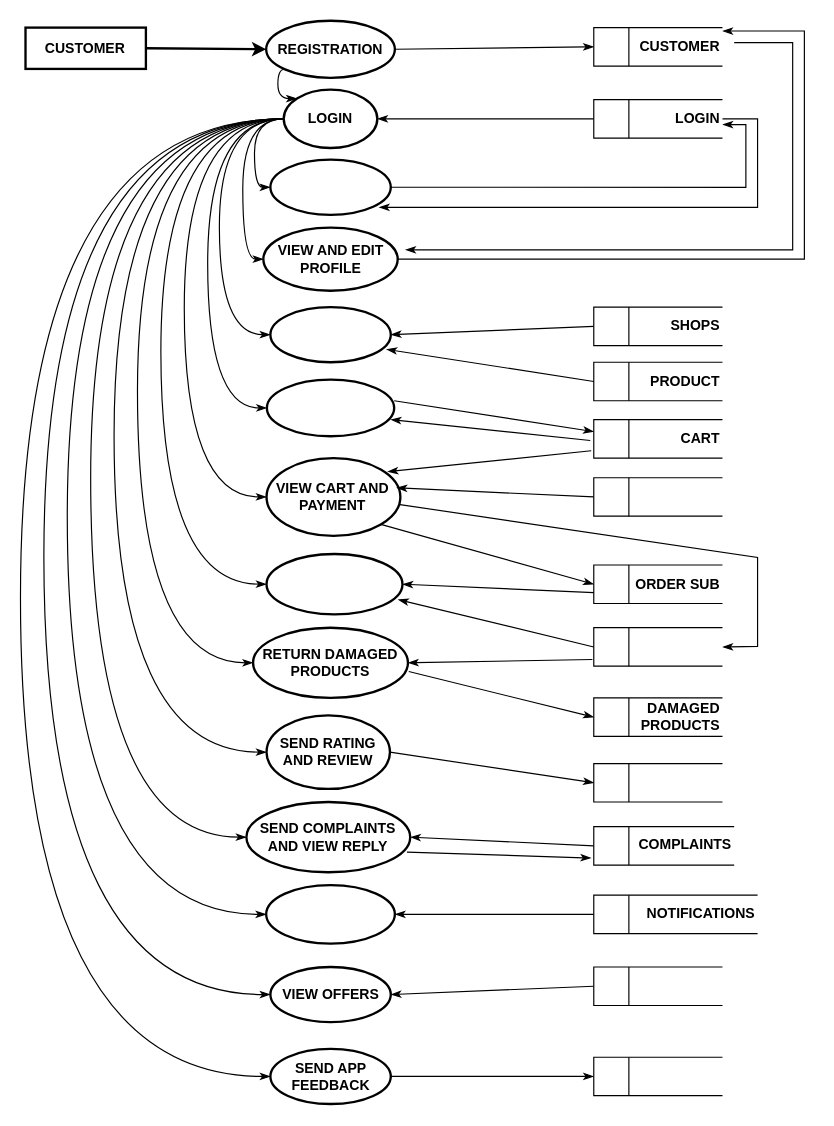
This 834x1126 diagram has some shape labels left out. Each missing label, with the centre of its shape:
ADD/REMOVE FROM CART: the point at 330,407
CHANGE PASSWORD: the point at 330,186
FEEDBACK: the point at 657,1076
OFFERS: the point at 657,985
ORDER MAIN: the point at 657,646
PAYMENT: the point at 657,496
REVIEW: the point at 657,782
VIEW NOTIFICATIONS: the point at 329,913
VIEW PREVIOUS ORDERS: the point at 334,583
VIEW PRODUCTS: the point at 330,334
